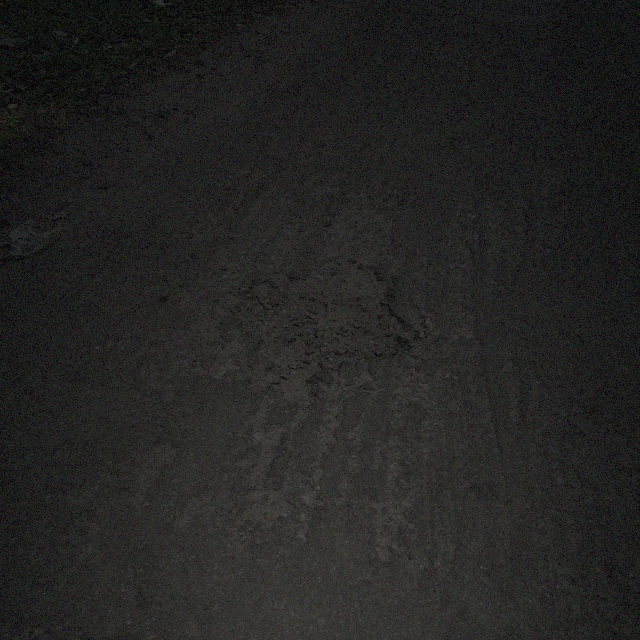pothole: (231, 257, 416, 371)
